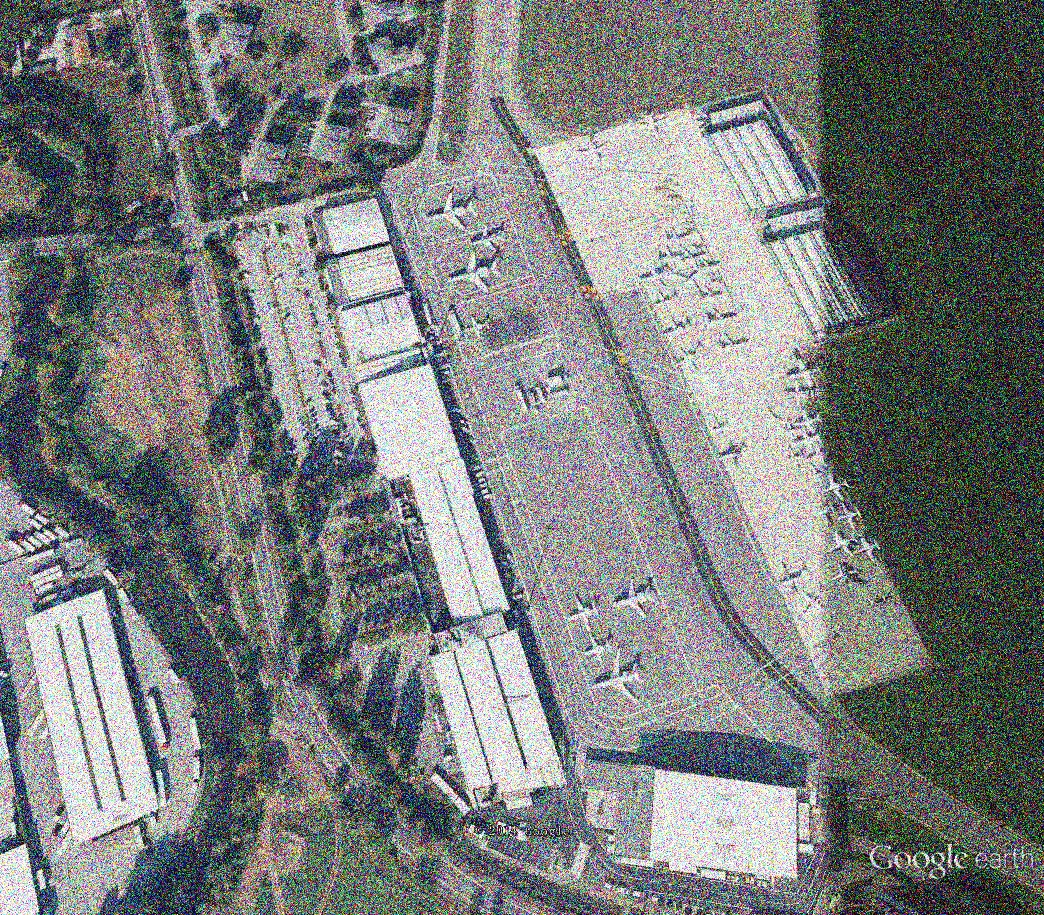aircraft: (590, 644, 652, 709), (442, 248, 506, 299), (421, 186, 485, 234), (608, 574, 659, 623), (565, 594, 604, 633), (775, 560, 812, 601), (465, 222, 509, 256), (785, 352, 822, 391), (799, 582, 832, 622), (456, 313, 493, 347), (572, 133, 608, 167), (827, 528, 861, 563), (850, 535, 885, 569), (669, 342, 700, 380), (583, 631, 615, 666), (829, 560, 864, 592), (715, 332, 751, 363), (655, 242, 688, 275), (834, 501, 867, 534), (661, 314, 693, 348), (715, 437, 745, 472), (781, 379, 816, 409), (633, 111, 669, 140), (704, 307, 740, 335), (648, 287, 680, 318), (660, 225, 694, 252), (823, 472, 854, 501), (638, 262, 670, 290), (697, 283, 728, 310), (793, 408, 826, 433), (688, 258, 719, 283), (673, 271, 703, 296), (709, 411, 733, 442), (784, 442, 807, 474), (680, 244, 707, 271), (795, 430, 825, 453), (800, 443, 830, 466), (779, 418, 804, 443), (805, 462, 826, 486), (766, 403, 785, 429)
